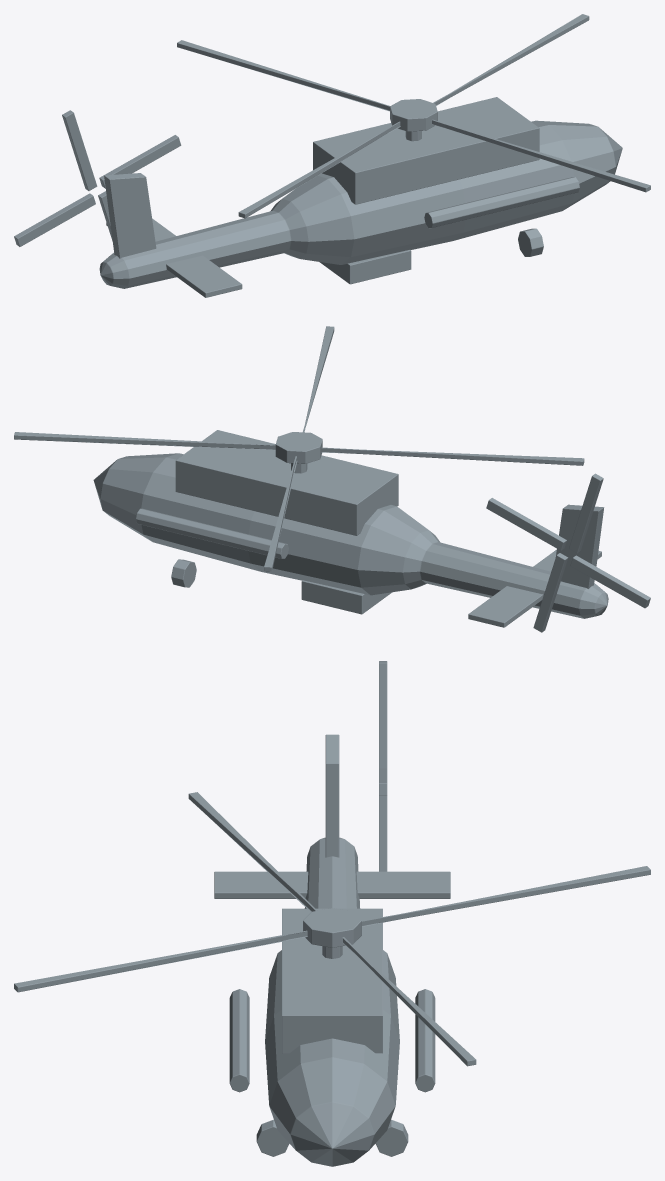
The model's file is rfn_aew_ka31.glb.
The picture shows the model from 3 angles, top to bottom: view 1: azimuth 30°, elevation 25°; view 2: azimuth 150°, elevation 25°; view 3: azimuth 270°, elevation 25°; orthographic projection. The views are drawn at different scales.
Visible parts, largest first — view 1: rfn_aew_ka31; view 2: rfn_aew_ka31; view 3: rfn_aew_ka31.
Boxes of the visible parts, bbox=[...] form: rfn_aew_ka31: bbox=[14, 14, 650, 297]; rfn_aew_ka31: bbox=[14, 326, 650, 632]; rfn_aew_ka31: bbox=[14, 661, 650, 1166].
Bounding box in the file's own units: 10 × 3.31 × 7.62.
